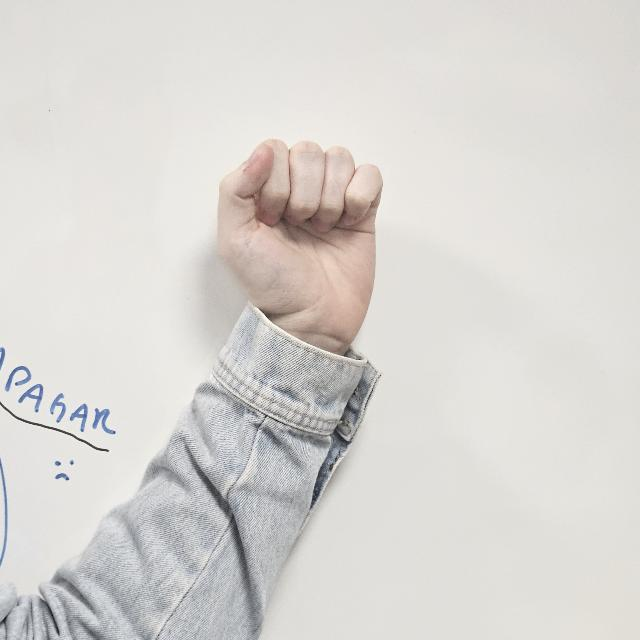Quadro: (215, 136, 382, 344)
